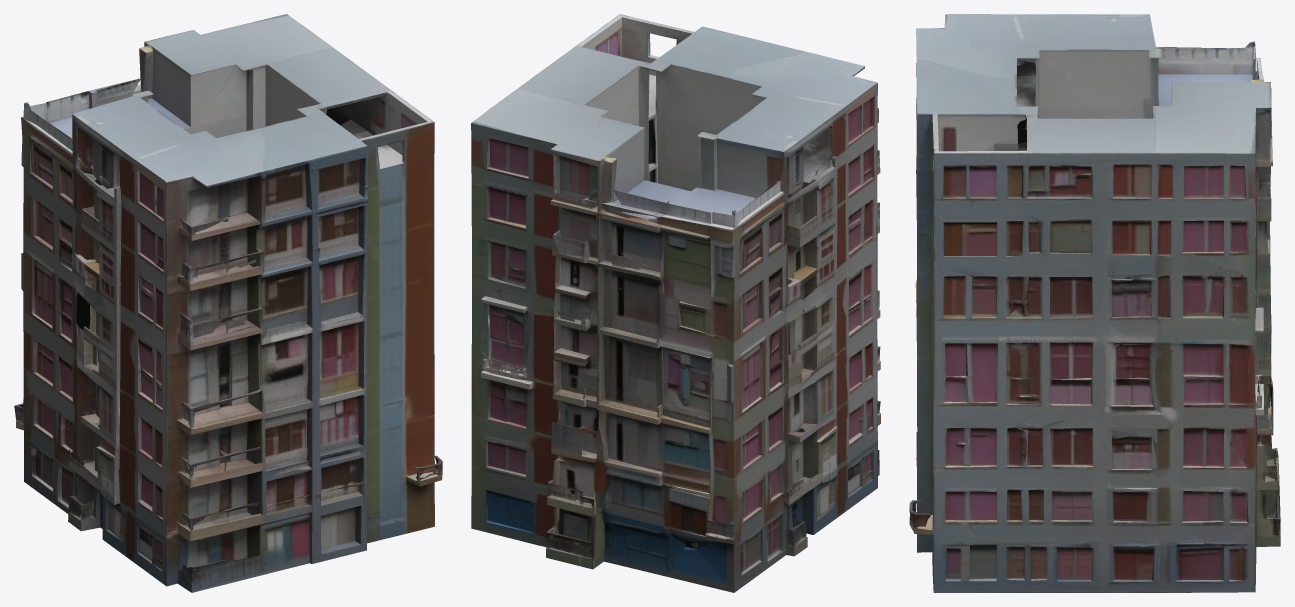
File: chawl_building_tex.glb
3 views of the same model, side by side, from view 1: azimuth 30°, elevation 25°; view 2: azimuth 150°, elevation 25°; view 3: azimuth 270°, elevation 25° (orthographic). The views are drawn at different scales.
Parts seen in each view (by area): view 1: chawl_building; view 2: chawl_building; view 3: chawl_building.
Part boxes in pixels (x1=…): chawl_building: x1=14, y1=14, x2=442, y2=592; chawl_building: x1=471, y1=14, x2=880, y2=592; chawl_building: x1=909, y1=14, x2=1280, y2=592.
Size of the model in its own units: 0.7019 by 0.9997 by 0.7652.
1 material, 1 textured.
